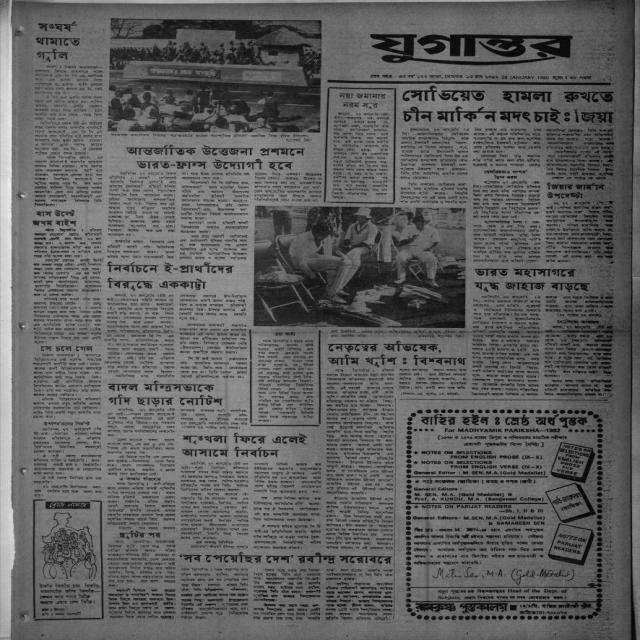advertisement: (404, 408, 605, 622)
caption: (108, 132, 314, 143), (328, 328, 468, 340)
image: (252, 205, 468, 329), (107, 17, 323, 133), (39, 510, 99, 580)
paragraph: (324, 367, 395, 495), (471, 294, 542, 397), (103, 292, 176, 379), (330, 111, 390, 200), (256, 338, 315, 423), (107, 170, 178, 238), (544, 199, 616, 264), (399, 126, 471, 181), (179, 565, 249, 620), (326, 495, 396, 550), (543, 324, 614, 378), (34, 155, 103, 207), (32, 296, 102, 346), (106, 539, 177, 588), (180, 492, 250, 540), (471, 219, 542, 264), (106, 481, 176, 526), (32, 353, 103, 397), (180, 180, 250, 221), (471, 179, 542, 219), (32, 257, 103, 297), (325, 581, 394, 621), (252, 566, 322, 603), (34, 120, 103, 156), (177, 322, 248, 355), (179, 460, 250, 493), (107, 587, 177, 620), (253, 461, 323, 494), (33, 227, 103, 259), (33, 64, 104, 95), (253, 171, 323, 202), (177, 292, 248, 321), (178, 233, 249, 261), (32, 426, 103, 454), (545, 149, 615, 177), (251, 523, 323, 550), (472, 127, 543, 154), (252, 495, 322, 522), (34, 95, 104, 121), (178, 355, 249, 380), (544, 127, 615, 151), (399, 181, 469, 205), (179, 407, 249, 430), (33, 396, 102, 419), (104, 238, 176, 260), (32, 454, 104, 476), (398, 368, 468, 390), (106, 454, 176, 476), (38, 582, 101, 606), (543, 377, 614, 397), (252, 602, 321, 622), (544, 294, 614, 313), (106, 438, 176, 456), (471, 153, 541, 168), (179, 220, 250, 234), (32, 484, 103, 498), (324, 568, 394, 581), (338, 93, 387, 111), (32, 475, 104, 485), (180, 171, 250, 181), (37, 345, 95, 352), (190, 544, 249, 550)
text: (367, 71, 593, 82), (40, 607, 82, 617), (400, 391, 460, 397), (554, 312, 603, 318), (550, 176, 607, 181), (116, 526, 177, 530)
title: (398, 84, 616, 126), (362, 29, 576, 69), (123, 143, 306, 172), (104, 260, 236, 292), (325, 339, 469, 368), (180, 432, 310, 459), (105, 380, 225, 408), (179, 551, 394, 566), (472, 267, 592, 293), (105, 407, 177, 438), (34, 20, 82, 63), (545, 181, 606, 200), (31, 208, 78, 227), (481, 168, 529, 180), (118, 530, 162, 540), (555, 318, 602, 325), (40, 420, 92, 426), (48, 502, 88, 509), (118, 476, 162, 482), (195, 539, 236, 545), (271, 331, 298, 338)
